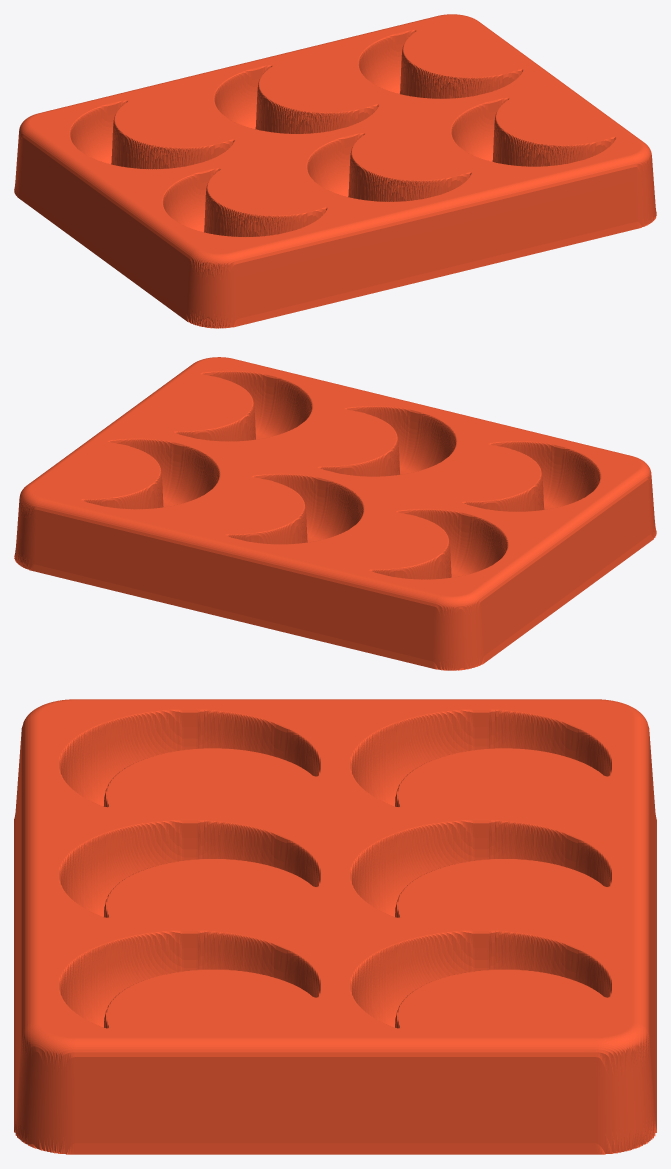
The model's file is mold.glb.
The picture shows the model from 3 angles, top to bottom: view 1: azimuth 30°, elevation 25°; view 2: azimuth 150°, elevation 25°; view 3: azimuth 270°, elevation 25°; orthographic projection. The views are drawn at different scales.
Visible parts, largest first — view 1: geometry_0; view 2: geometry_0; view 3: geometry_0.
Part boxes in pixels (left/top/right/bottom): geometry_0: left=14, top=14, right=656, bottom=328; geometry_0: left=14, top=357, right=656, bottom=670; geometry_0: left=14, top=699, right=656, bottom=1154.
Bounding box in the file's own units: 0.1255 × 0.0175 × 0.0955.
